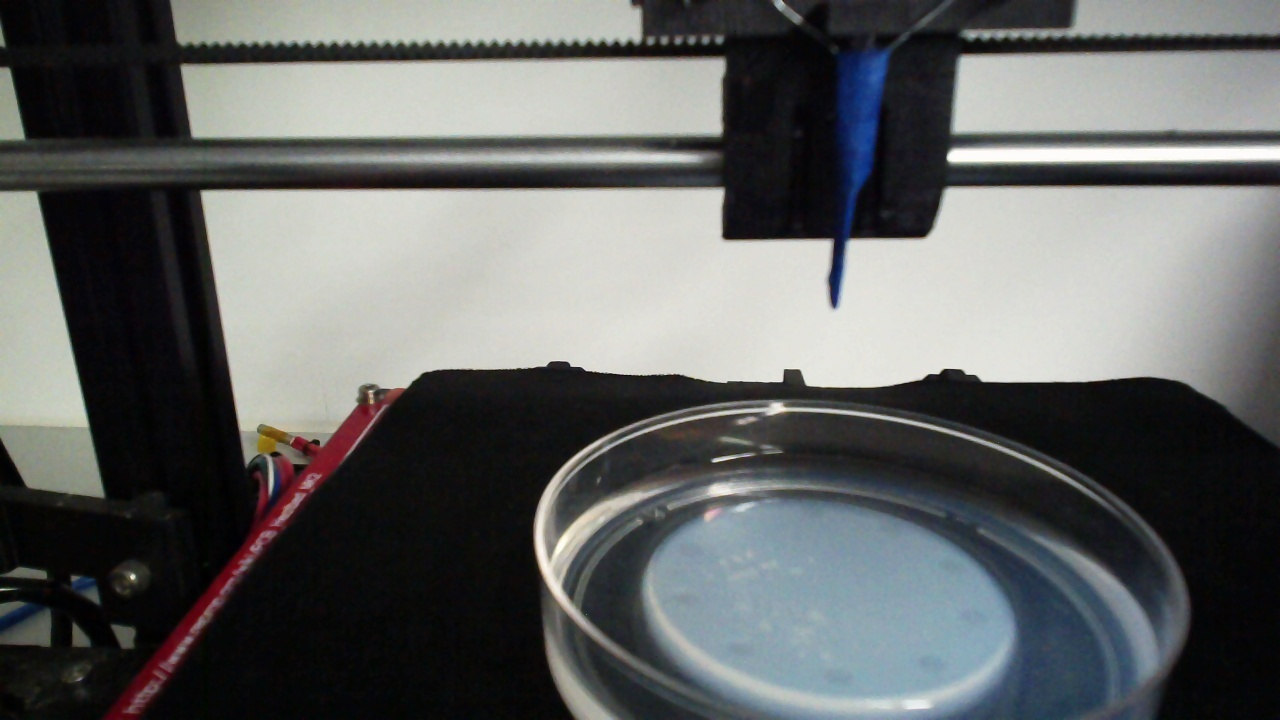groove: (956, 609, 988, 628), (916, 654, 945, 674), (822, 668, 853, 686), (725, 641, 756, 657), (879, 520, 905, 539), (937, 559, 966, 575), (798, 503, 825, 520), (678, 542, 705, 557), (674, 594, 702, 606)
needle: (829, 52, 888, 305)
